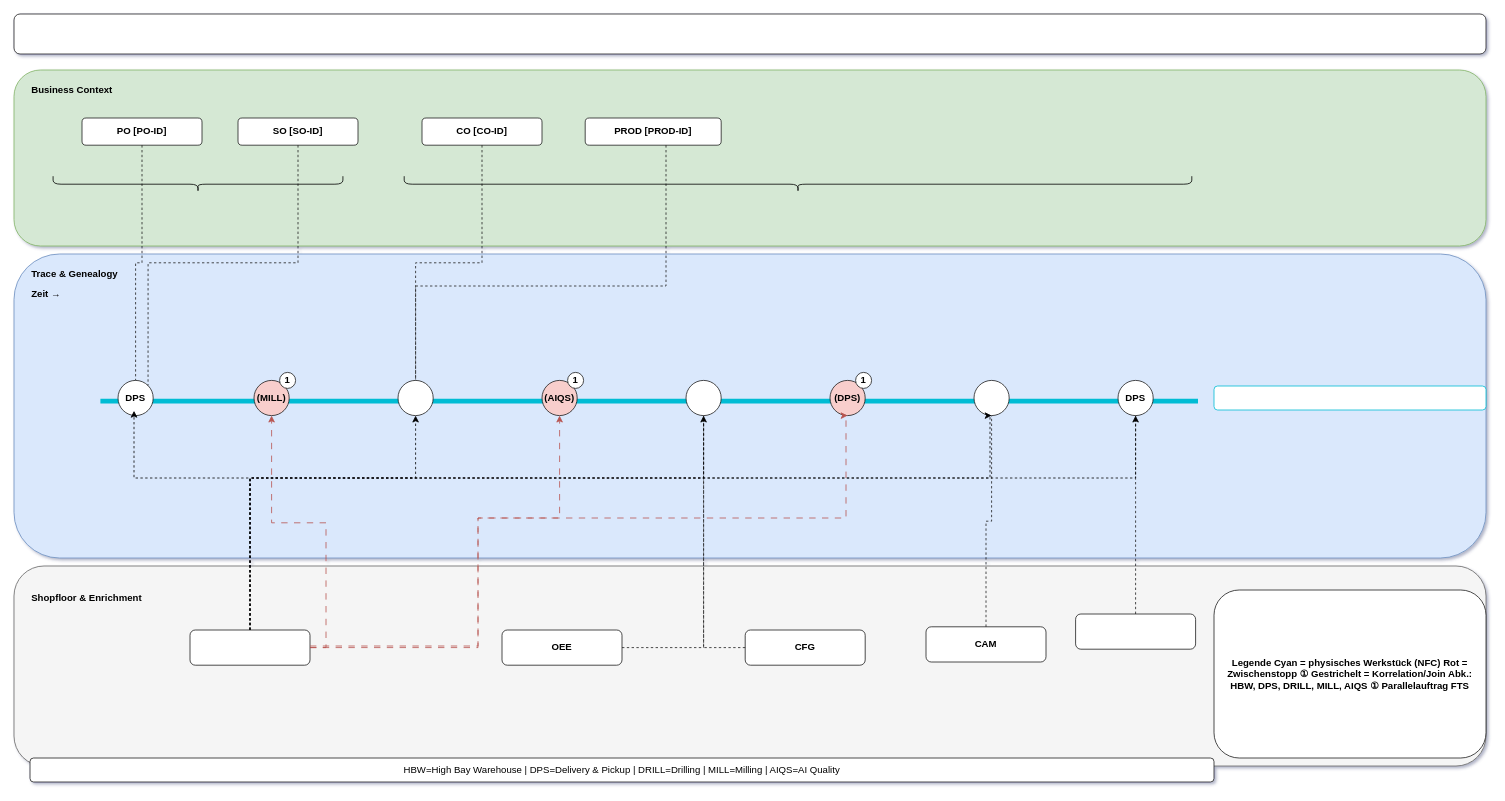
The diagram is 1505 pixels wide and 801 high, and some of its shapes have lost their labels. Here are the shapes that lost their labels. From the top down, the box of each, then its label:
(13, 13, 1486, 54): Track & Trace — SinglePart (NFC) | Business Context + Trace + Enrichment
(52, 175, 343, 192): Phase 1: Procurement
(403, 175, 1192, 192): phase 2 Production Fullfillment
(397, 380, 433, 416): HBW
(685, 380, 721, 416): DRILL
(973, 380, 1009, 416): AIQS
(1213, 385, 1486, 410): NFC-ID: [UID-1234] (SinglePart Thread)
(189, 629, 310, 665): AGV System
(1075, 613, 1196, 649): TEMP
